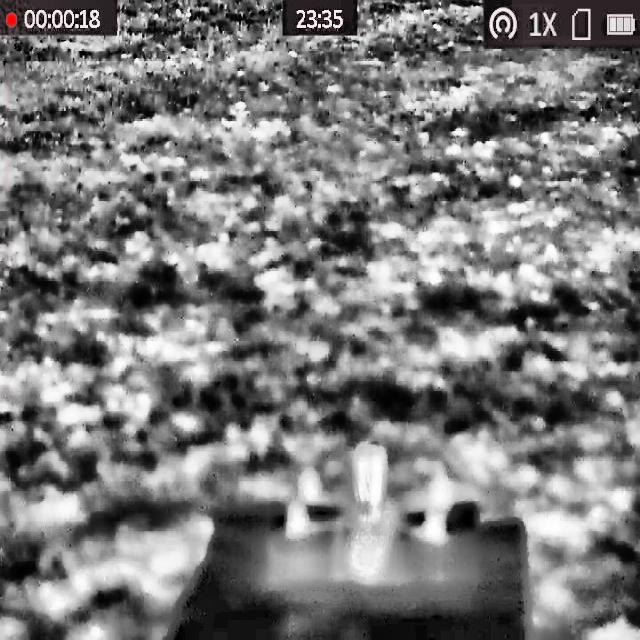drone: (283, 441, 457, 588)
